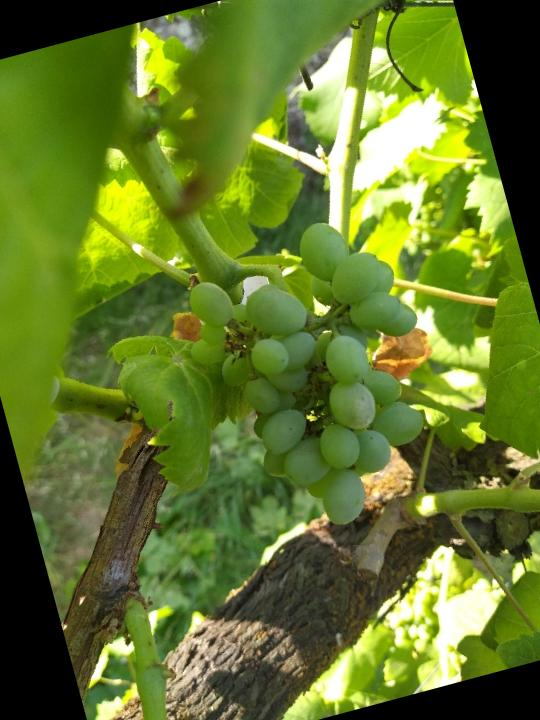grape: (159, 201, 468, 555)
